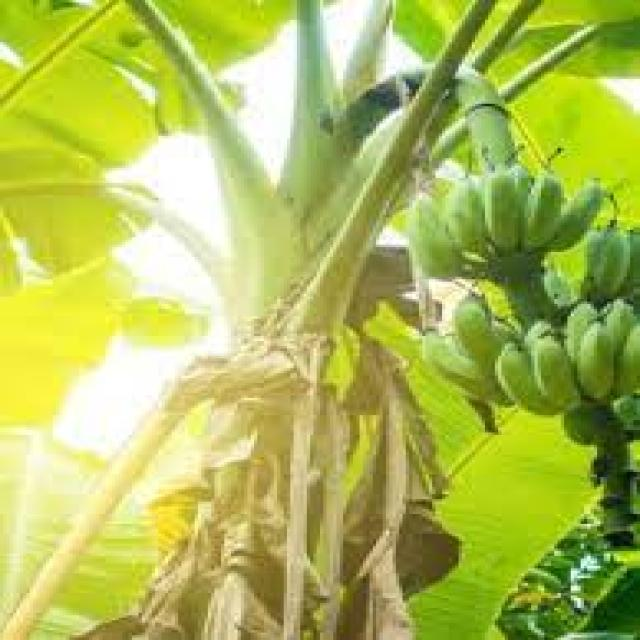banana: (399, 168, 640, 409)
